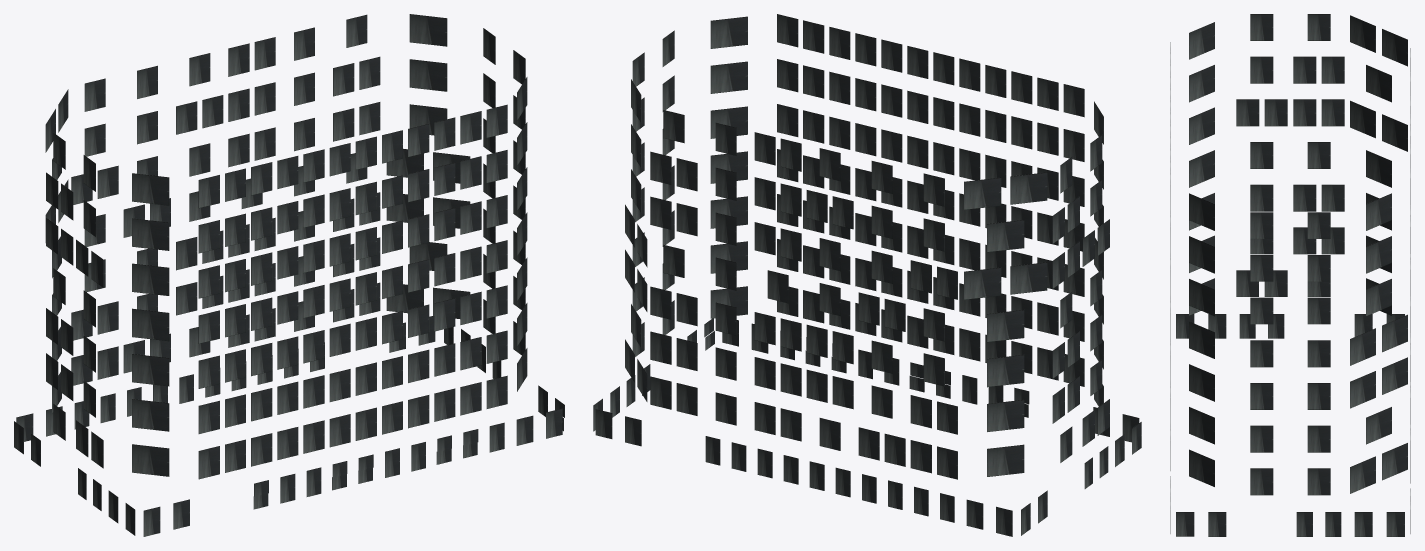
Rendered from TRANS_Building_8stores_Residential.obj.
The picture shows the model from 3 angles, left to right: view 1: azimuth 30°, elevation 25°; view 2: azimuth 150°, elevation 25°; view 3: azimuth 270°, elevation 25°; orthographic projection. The views are drawn at different scales.
Visible parts, largest first — view 1: TRANS_Building_8stores_Residential; view 2: TRANS_Building_8stores_Residential; view 3: TRANS_Building_8stores_Residential.
Part boxes in pixels (x1,y1,x2,y2): TRANS_Building_8stores_Residential: (14, 14, 564, 536); TRANS_Building_8stores_Residential: (593, 14, 1141, 536); TRANS_Building_8stores_Residential: (1170, 14, 1410, 536).
Size of the model in its own units: 10.78 by 8.23 by 5.53.
